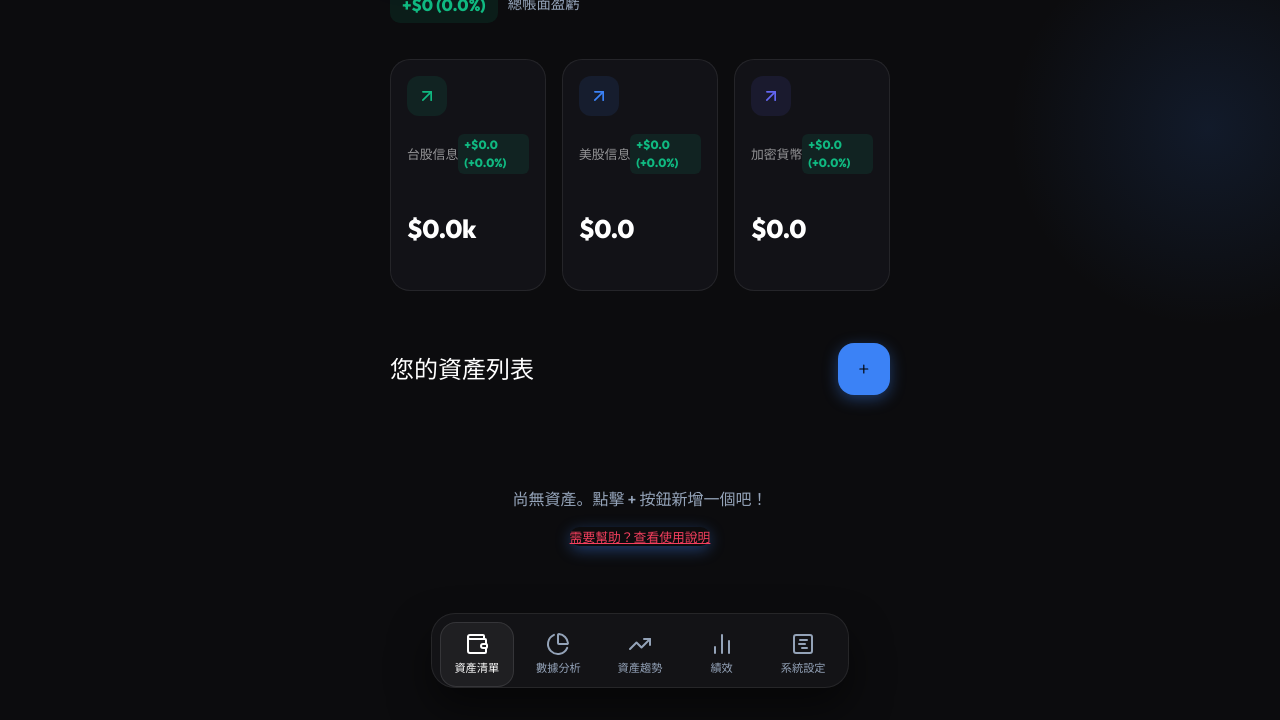
Test: App › should switch between tabs
(page scrolled)
Expected: the text "資產清單" is shown, x1=454 y1=660 x2=499 y2=677
Click Stats tab
Click the text "數據分析": (558, 669) x1=536 y1=660 x2=581 y2=677
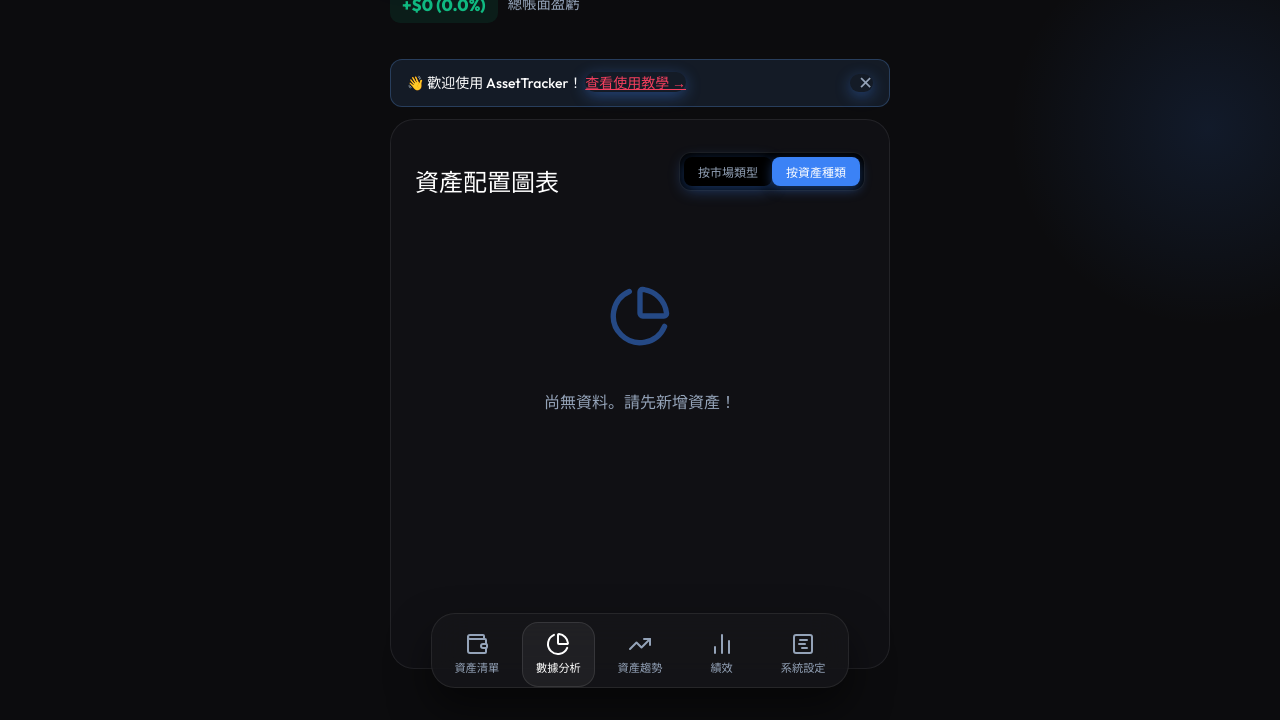
Expected: the heading "資產配置圖表" is shown, x1=415 y1=164 x2=559 y2=200
